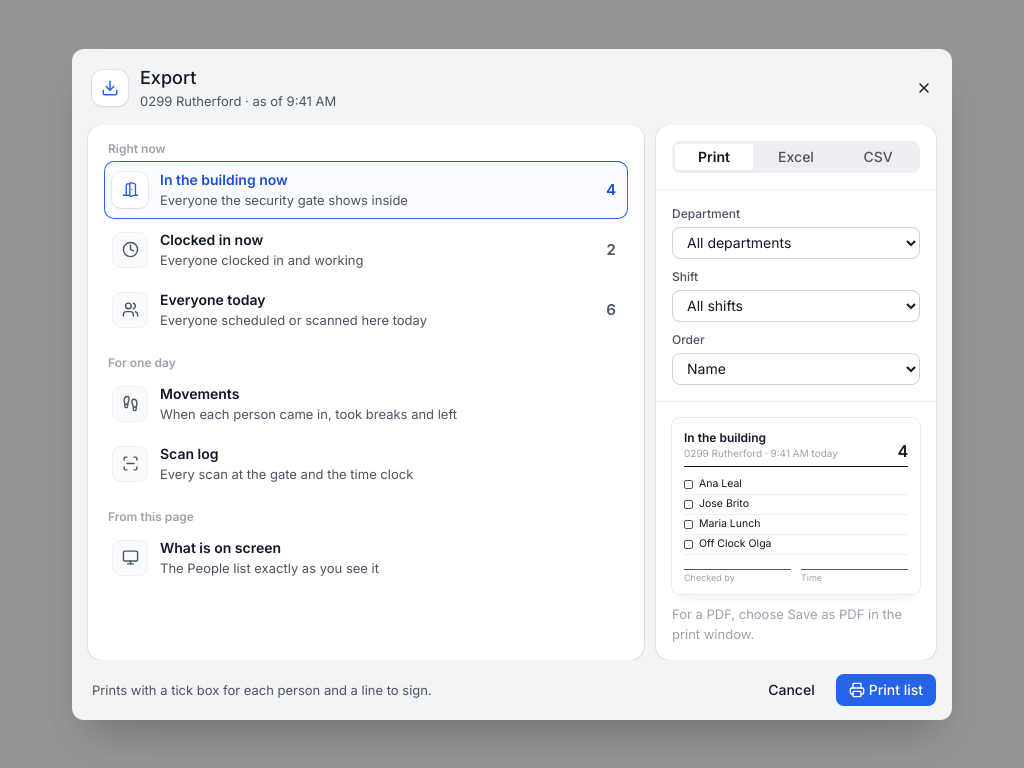
it: Export window › counts people on a meal or break into Clocked in only when ticked
The width and height of the screenshot is (1024, 768).
Click the radio button labelled "Clocked in now Everyone clocked in and working 2": (366, 250) [104,220,628,278]
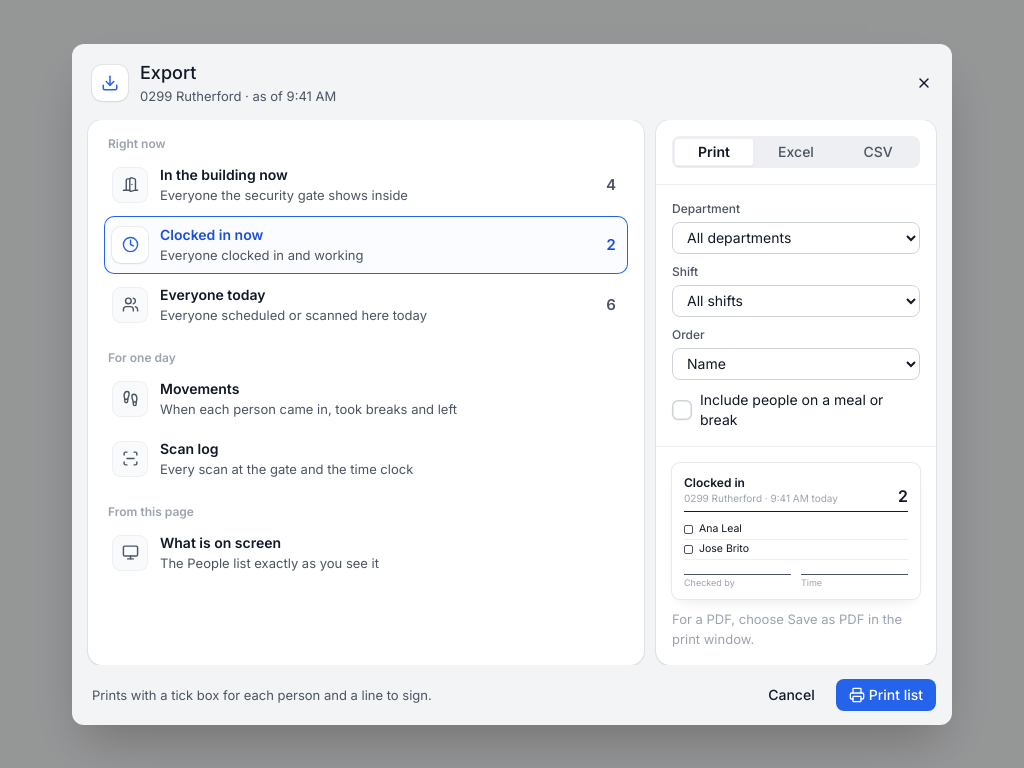
Now the text with test id "preview-count" reads "2", box [898,486,908,506]
Click the checkbox labelled "Include people on a meal or break": (796, 410) [672,390,920,430]
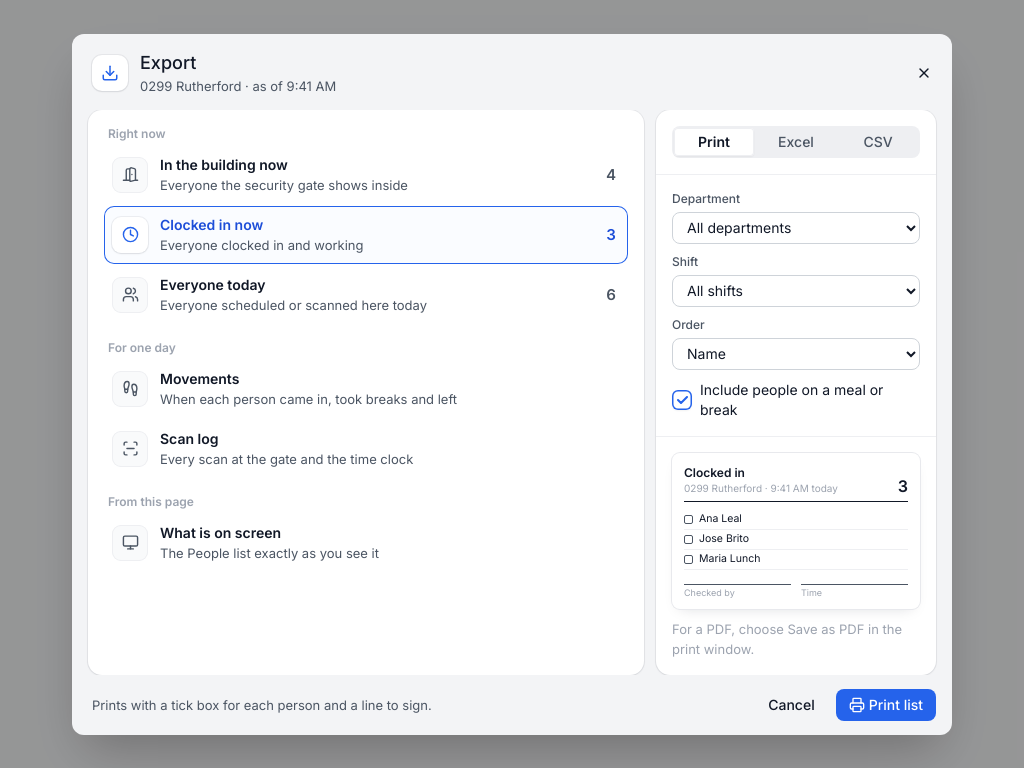
Now the text with test id "preview-count" reads "3", box [898,476,908,496]
